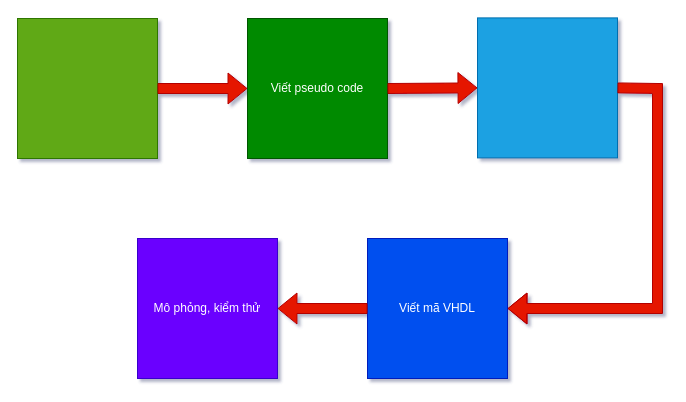
Some shapes in this 686 by 402 pixel diagram are drawn without their labels. Here are the shapes that lost their labels. From the top down, the centre of each, then its label:
point (87, 88): Xác định công thức
point (547, 87): Thiết kế datapath và controller
